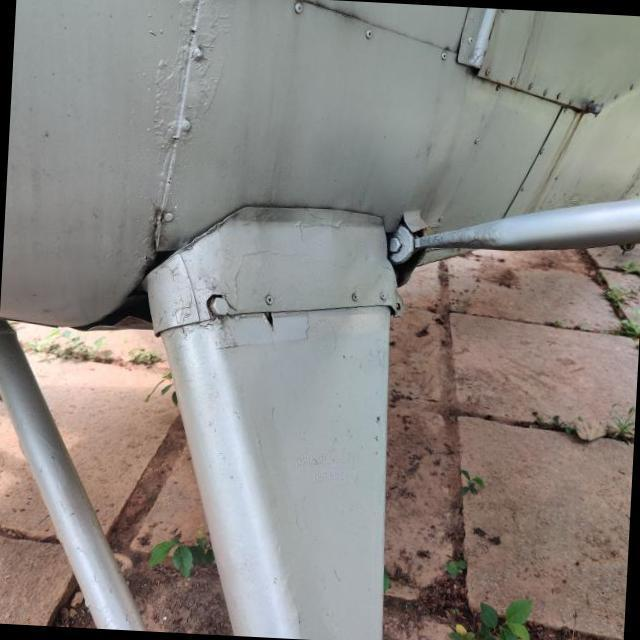Rupture: (242, 298, 289, 339)
